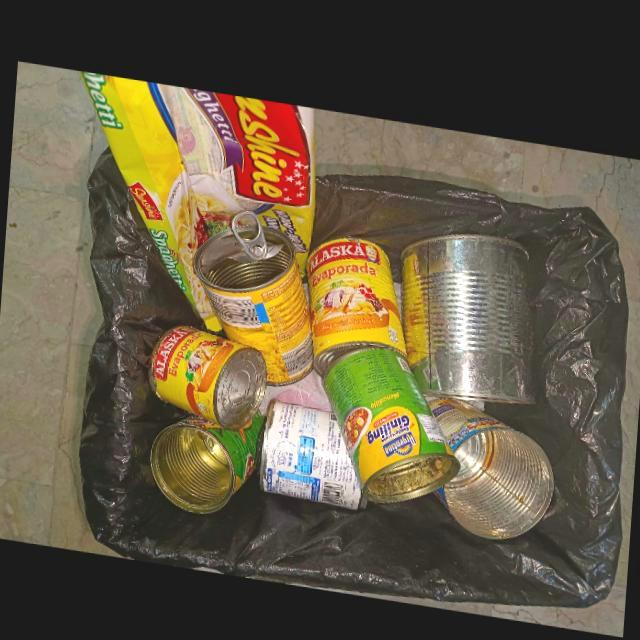aluminum: (399, 225, 536, 392), (323, 340, 460, 497), (192, 205, 314, 381), (427, 389, 552, 529), (306, 230, 406, 372), (149, 322, 267, 425), (259, 393, 368, 504), (149, 406, 265, 510)
food_wrapper: (81, 68, 315, 329)
